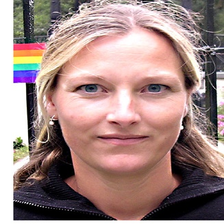no_mask: (64, 41, 183, 171)
